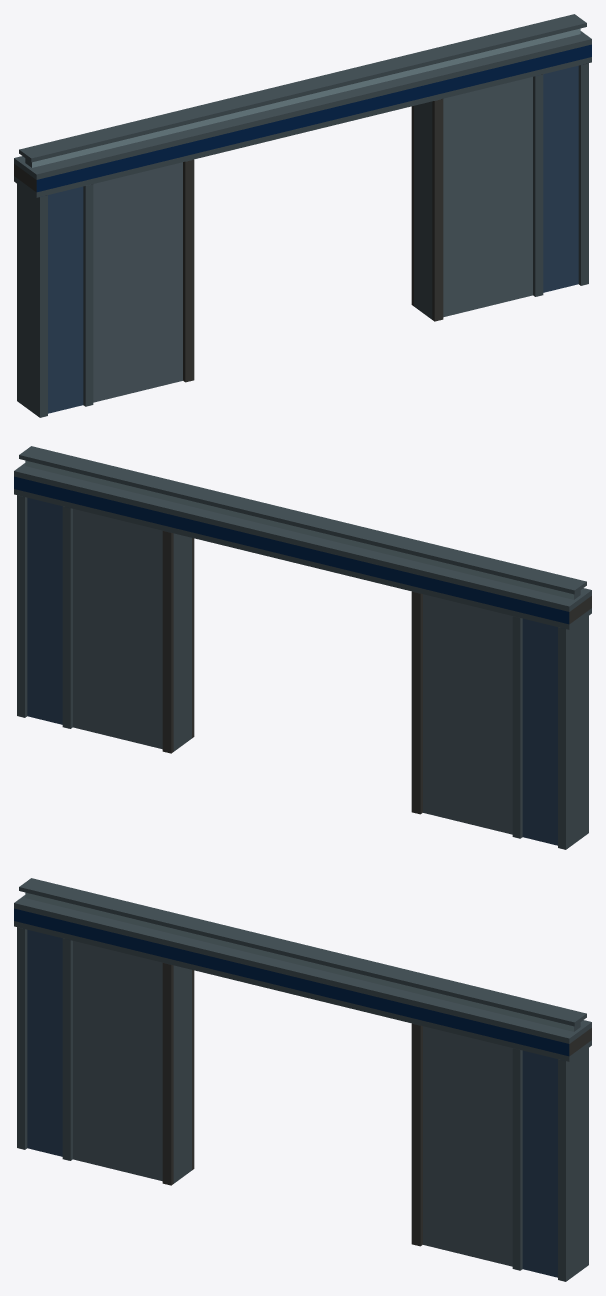
File: congmap1-2.fbx
3 views of the same model, one above another, from view 1: azimuth 30°, elevation 25°; view 2: azimuth 150°, elevation 25°; view 3: azimuth 330°, elevation 25° (orthographic).
Parts seen in each view (by area): view 1: Cube.001; view 2: Cube.001; view 3: Cube.001.
Part boxes in pixels (left/top/right/bottom): Cube.001: left=14, top=14, right=591, bottom=417; Cube.001: left=14, top=446, right=591, bottom=849; Cube.001: left=14, top=878, right=591, bottom=1281.
Bounding box in the file's own units: 10.09 × 4.45 × 0.7195.
